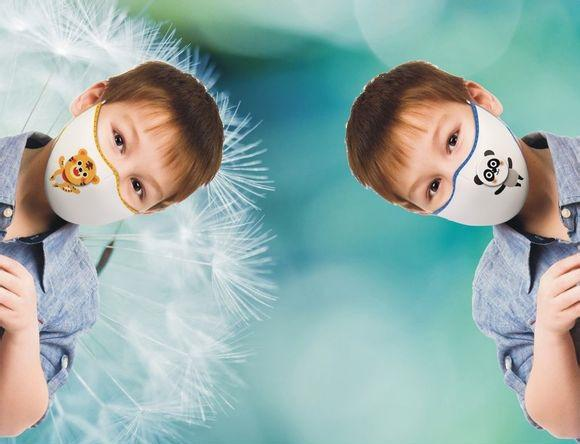OK: (393, 106, 527, 229), (52, 109, 170, 227)
